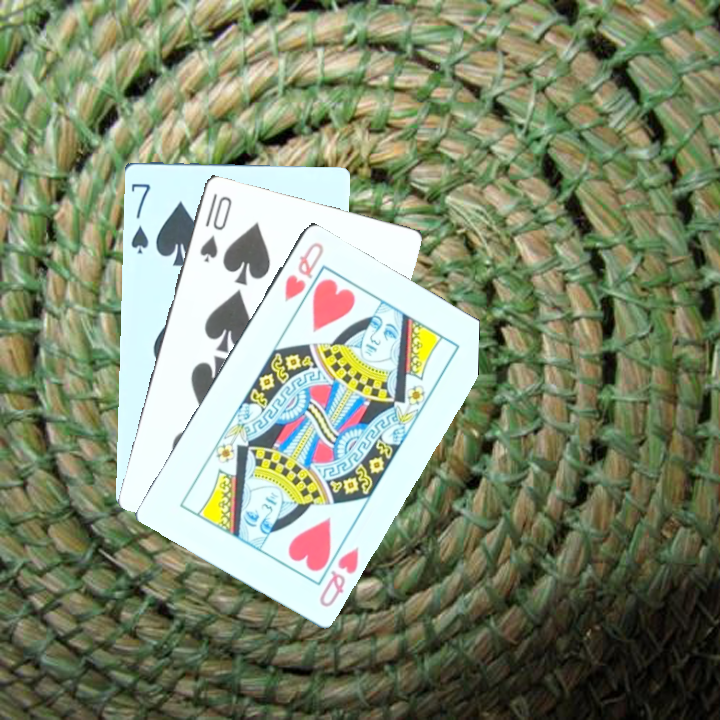10s: (195, 189, 235, 265)
7s: (127, 180, 153, 254)
Qh: (315, 542, 362, 610), (280, 238, 327, 305)
